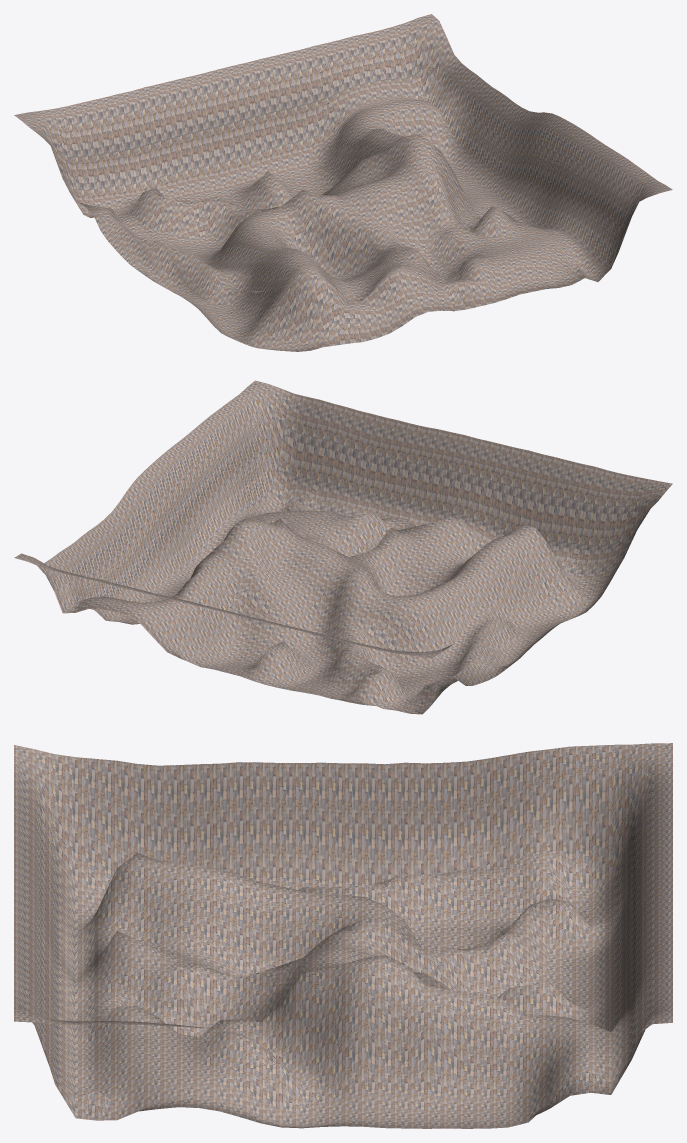
File: cube6holes.gltf
The picture shows the model from 3 angles, top to bottom: view 1: azimuth 30°, elevation 25°; view 2: azimuth 150°, elevation 25°; view 3: azimuth 270°, elevation 25°; orthographic projection. The views are drawn at different scales.
Visible parts, largest first — view 1: t2; view 2: t2; view 3: t2.
Boxes of the visible parts, bbox=[...] form: t2: bbox=[14, 14, 672, 351]; t2: bbox=[14, 380, 672, 714]; t2: bbox=[14, 743, 672, 1128].
Bounding box in the file's own units: 2 × 0.475 × 2.
1 material, 1 textured.
